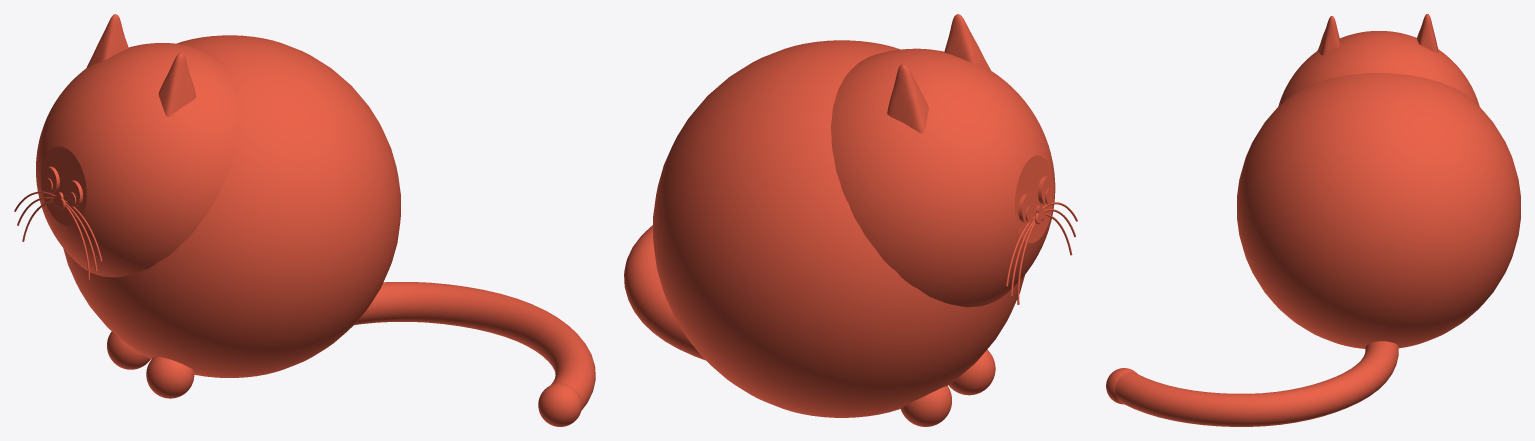
3 renders of one model, left to right at view 1: azimuth 30°, elevation 25°; view 2: azimuth 150°, elevation 25°; view 3: azimuth 270°, elevation 25°, orthographic. The views are drawn at different scales.
Visible parts, largest first — view 1: fat_cat_obj; view 2: fat_cat_obj; view 3: fat_cat_obj.
Boxes of the visible parts, bbox=[...] form: fat_cat_obj: bbox=[14, 14, 595, 426]; fat_cat_obj: bbox=[624, 14, 1077, 426]; fat_cat_obj: bbox=[1106, 14, 1520, 426].
Bounding box in the file's own units: 15.95 × 12.09 × 15.7.
